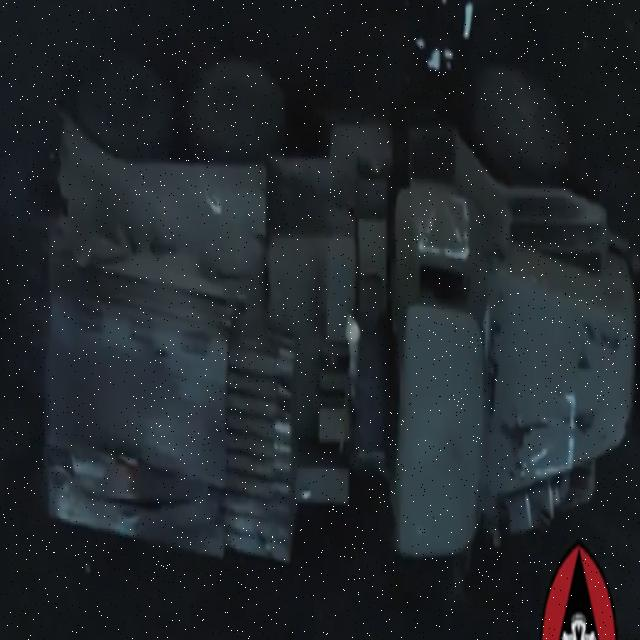MLRS: (41, 33, 640, 581)
